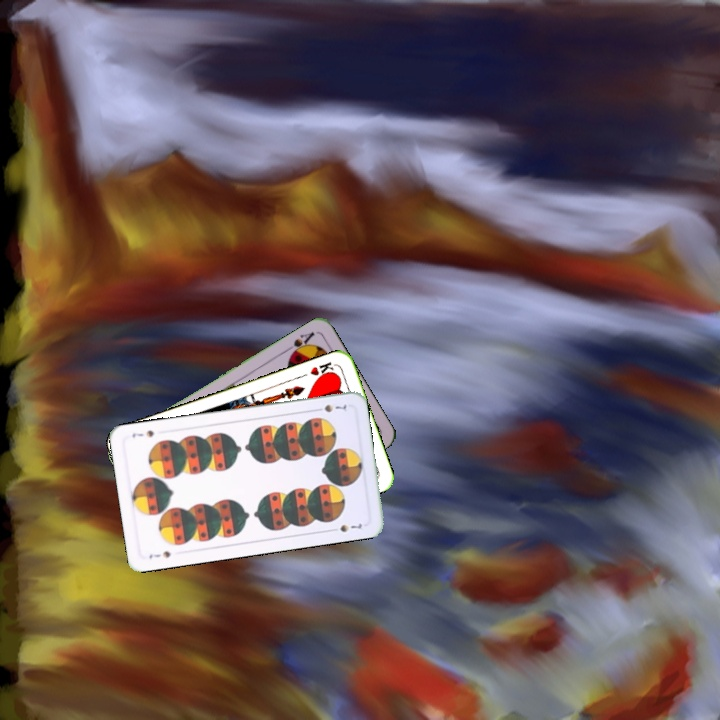HK: (306, 358, 338, 382)
S7: (311, 400, 349, 415), (145, 547, 173, 561)
SA: (281, 328, 317, 359)
